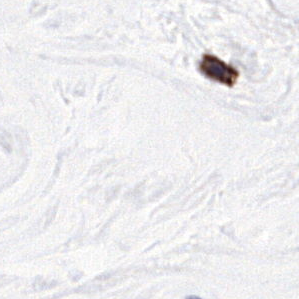Lymphocyte: (197, 52, 241, 87)
